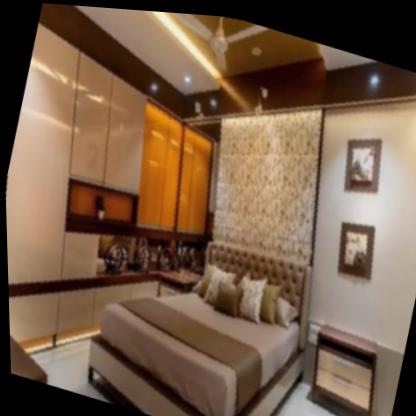Bed: (85, 203, 327, 416)
Frame: (320, 201, 393, 288), (327, 120, 394, 203)
Nightstand: (294, 310, 398, 416)
